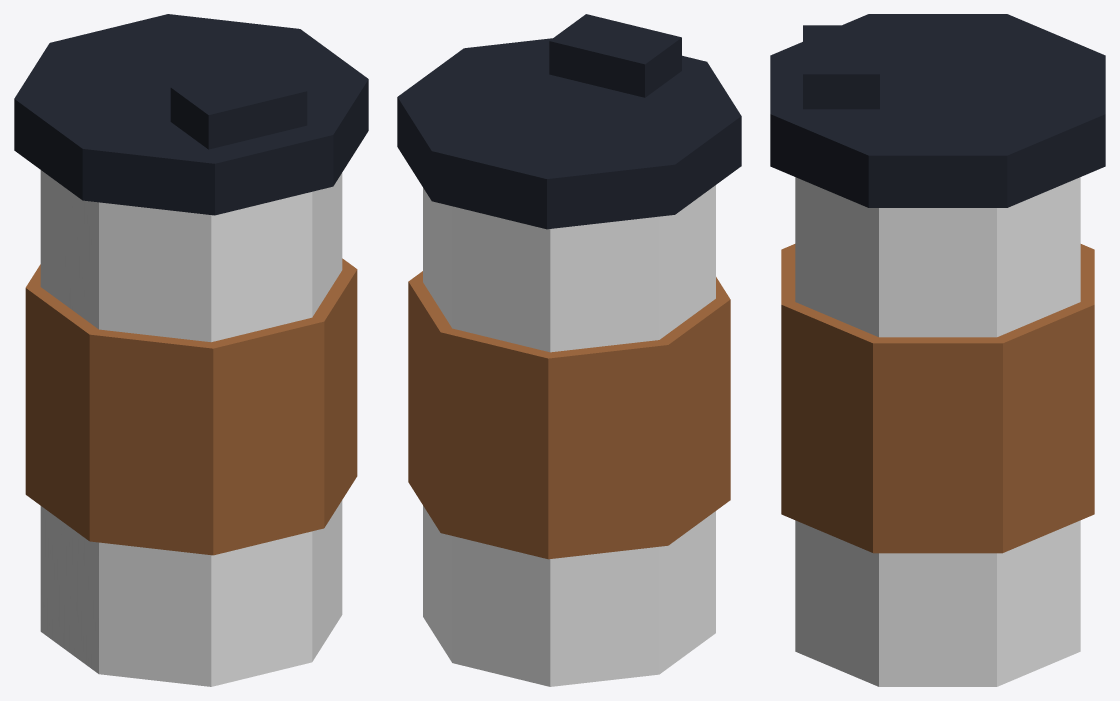
Rendered from coffee-cup.glb.
3 views of the same model, side by side, from view 1: azimuth 30°, elevation 25°; view 2: azimuth 150°, elevation 25°; view 3: azimuth 270°, elevation 25° (orthographic). The views are drawn at different scales.
Visible parts, largest first — view 1: coffee-cup; view 2: coffee-cup; view 3: coffee-cup.
Boxes of the visible parts, left/top/right/bottom form: coffee-cup: left=14, top=14, right=368, bottom=686; coffee-cup: left=397, top=14, right=741, bottom=686; coffee-cup: left=770, top=14, right=1105, bottom=686.
Bounding box in the file's own units: 0.0868 × 0.165 × 0.0868.
